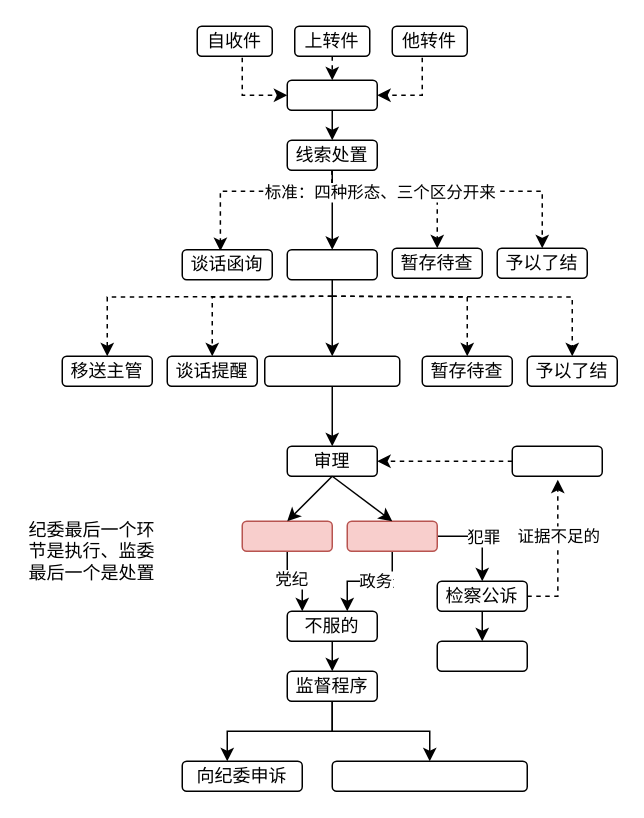
The diagram is 644 pixels wide and 818 high, and some of its shapes have lost their labels. The shapes that lost their labels are listed below. From the top down, each one's centre as x and y in pixels, then its label:
At (x=331, y=94): "信访举报".
At (x=331, y=264): "初核".
At (x=331, y=370): "立案审查调查".
At (x=556, y=460): "退查".
At (x=286, y=535): "执行".
At (x=391, y=535): "处置".
At (x=481, y=655): "法院审理".
At (x=429, y=775): "向监委申请复查复核".
